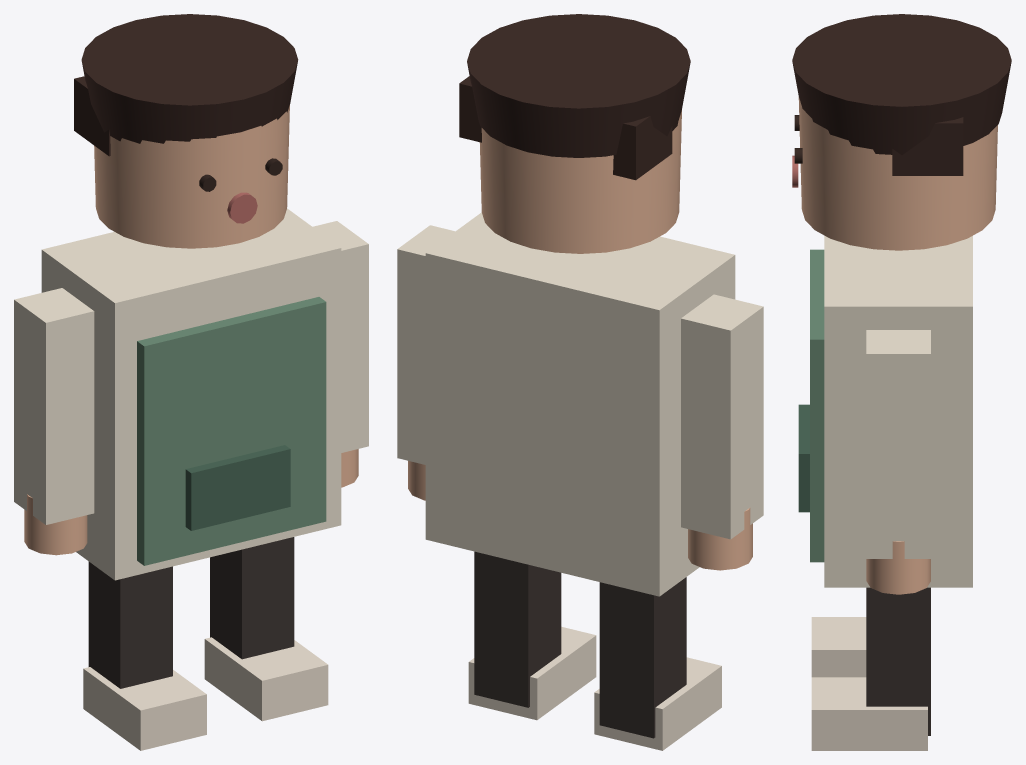
Rendered from jieun.glb.
3 renders of one model, left to right at view 1: azimuth 30°, elevation 25°; view 2: azimuth 150°, elevation 25°; view 3: azimuth 270°, elevation 25°, orthographic. The views are drawn at different scales.
Parts seen in each view (by area): view 1: Shirt, Apron, Sleeve (×2), HairCap, Head, Leg (×2), Shoe (×2), ApronPocket, Hand (×2), HairFringe, Smile; view 2: Shirt, Sleeve (×2), HairCap, Leg (×2), Head, Shoe (×2), HairFringe, Hand (×2); view 3: Shirt, HairCap, Head, Sleeve, Shoe (×2), Leg, Apron, HairFringe, Hand, ApronPocket.
Boxes of the visible parts, x1,y1,x2,y2 form: Shirt: (41, 208, 341, 580); Apron: (137, 297, 326, 565); Sleeve (×2): (14, 221, 368, 524); HairCap: (81, 14, 298, 143); Head: (94, 105, 289, 248); Leg (×2): (88, 537, 294, 688); Shoe (×2): (83, 637, 328, 750); ApronPocket: (185, 445, 290, 530); Hand (×2): (24, 449, 358, 555); HairFringe: (74, 76, 110, 156); Smile: (227, 192, 257, 223); Shirt: (425, 212, 735, 596); Sleeve (×2): (397, 225, 763, 539); HairCap: (467, 14, 690, 157); Leg (×2): (474, 551, 686, 738); Head: (479, 110, 681, 253); Shoe (×2): (468, 626, 721, 750); HairFringe: (459, 76, 672, 180); Hand (×2): (408, 461, 752, 570); Shirt: (824, 235, 972, 587); HairCap: (792, 14, 1011, 154); Head: (798, 96, 997, 250); Sleeve: (866, 330, 930, 558); Shoe (×2): (811, 617, 927, 750); Leg: (866, 587, 930, 735); Apron: (810, 249, 824, 562); HairFringe: (892, 117, 963, 175); Hand: (866, 541, 930, 594); ApronPocket: (798, 404, 809, 512).
Bounding box in the file's own units: 1.18 × 2.2 × 0.68.
